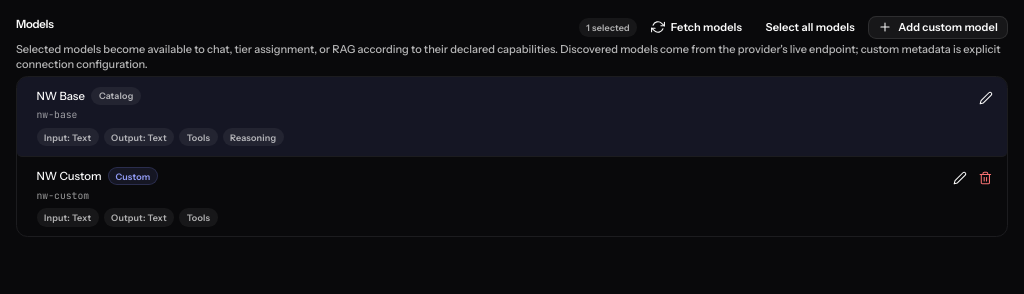
Scenario: connection models unified listing › surfaces discovery failures without disturbing the listed models
This screenshot has width=1024, height=294.
Click the button "Fetch models". click: (696, 27)
box: [641, 16, 752, 39]
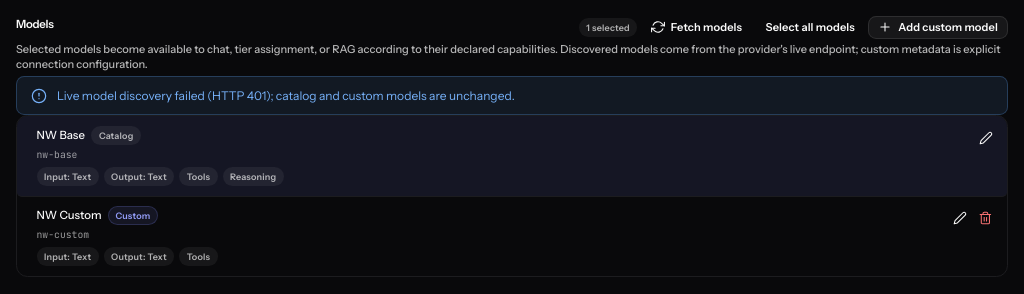
Expected: the text "NW Base" is shown, [36, 127, 85, 144]
Expected: the text "catalog and custom models are unchanged" is shown, [57, 88, 515, 103]
